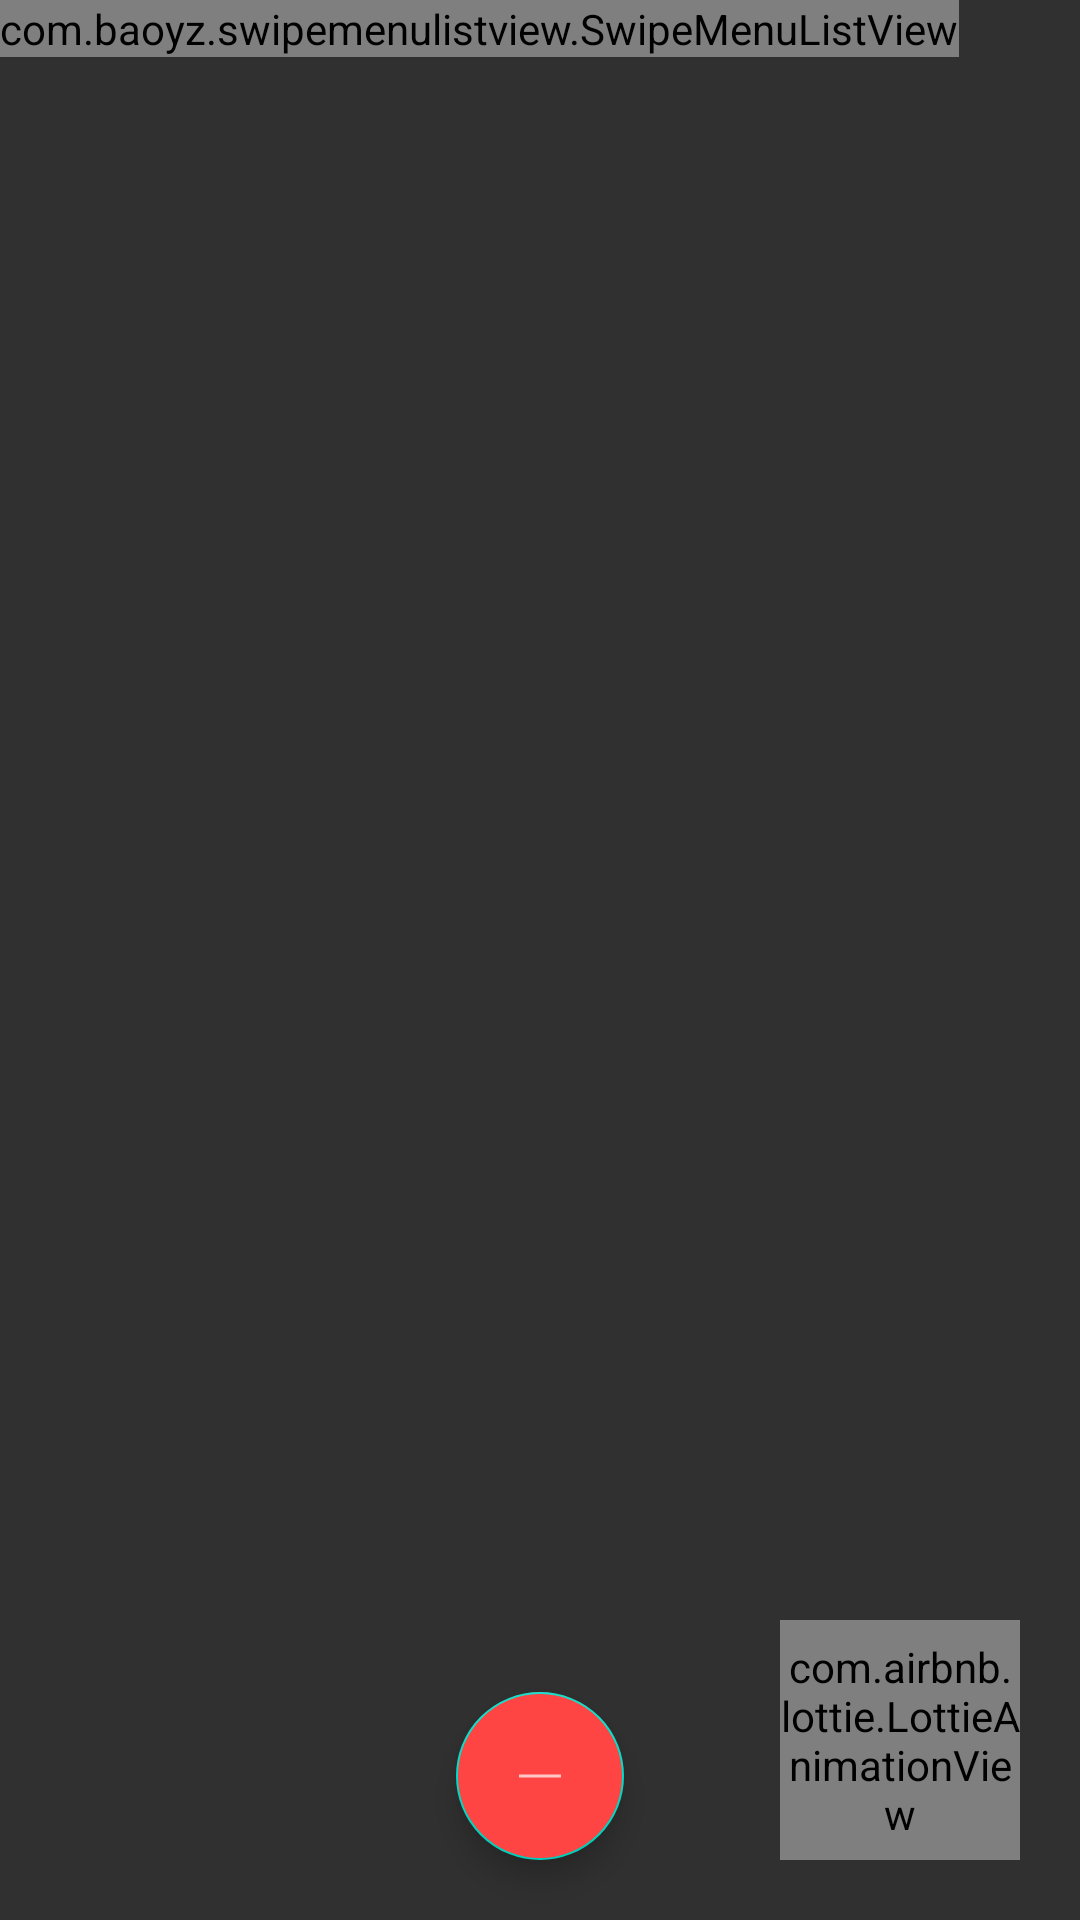

Point at icon controls on the screen. Image size 1080 x 1920, points as (x=x, y=y).
remove: (x=540, y=1776)
